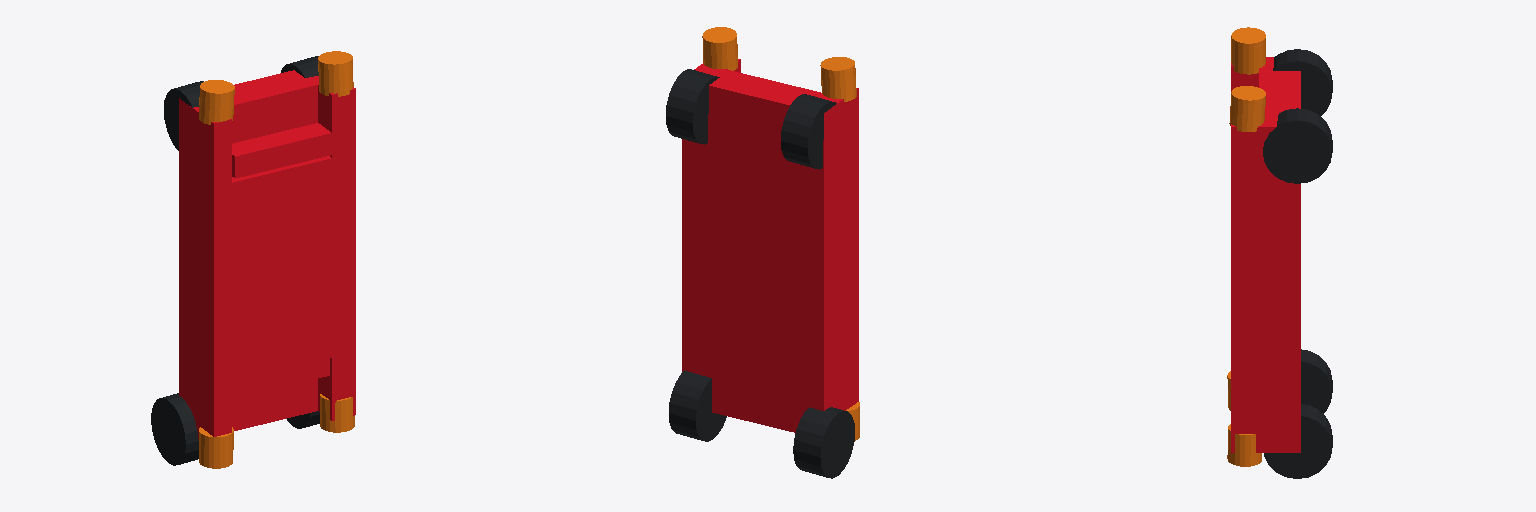
The model's file is tinker.obj.
The picture shows the model from 3 angles: view 1: azimuth 30°, elevation 25°; view 2: azimuth 150°, elevation 25°; view 3: azimuth 270°, elevation 25°; orthographic projection.
Parts seen in each view (by area): view 1: obj_0; view 2: obj_0; view 3: obj_0.
Part boxes in pixels (x1,y1,x2,y2): obj_0: (151,51,355,468); obj_0: (666,27,859,478); obj_0: (1227,27,1332,478).
Size of the model in its own units: 52.17 by 123 by 30.09.